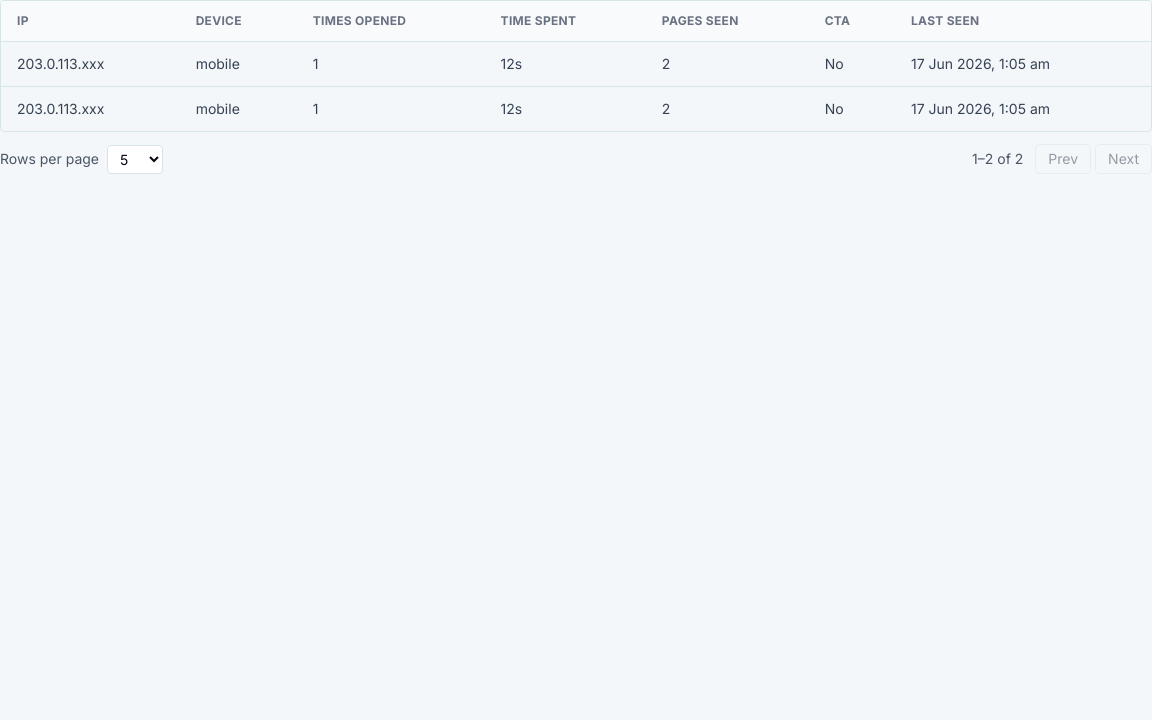
Scenario: ViewerAnalyticsTable (non-gated) › renders one row per device and opens the per-page modal on click
Click the button with aria-label "view per-page breakdown" at (61, 64), box [1, 42, 1151, 86]
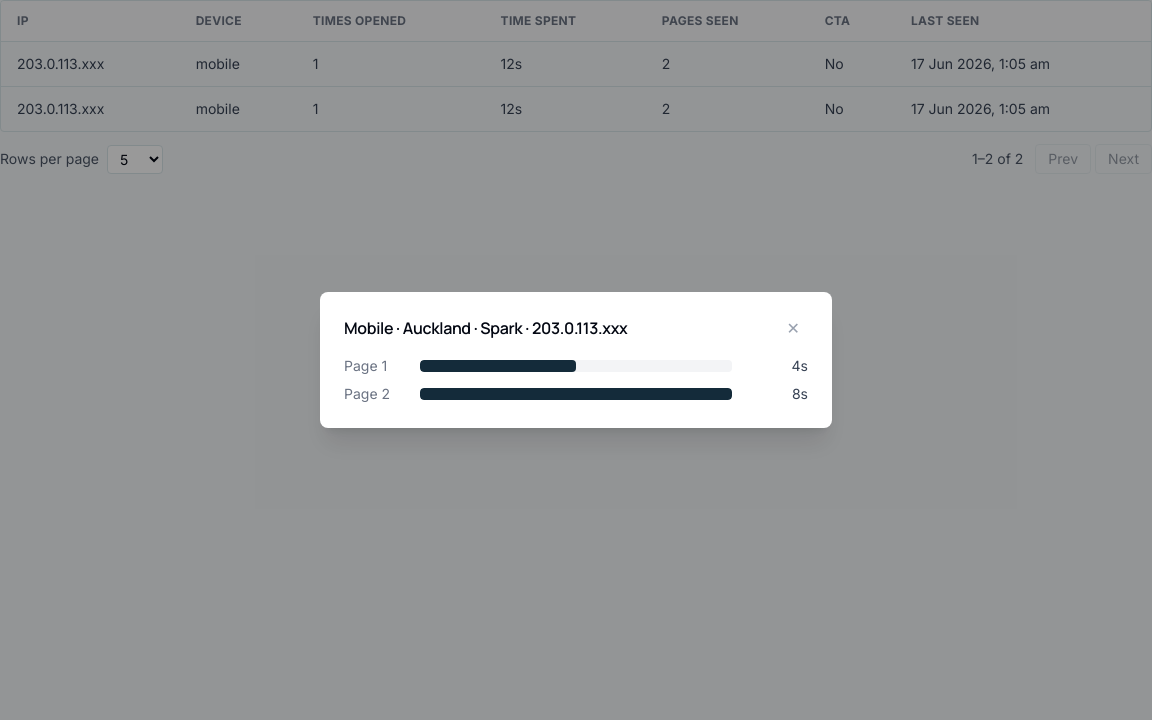
Check: the dialog named "per-page time" is shown
Check: the text "Page 1" is shown, box [344, 357, 387, 374]
Check: the text "Page 2" is shown, box [344, 385, 390, 402]
